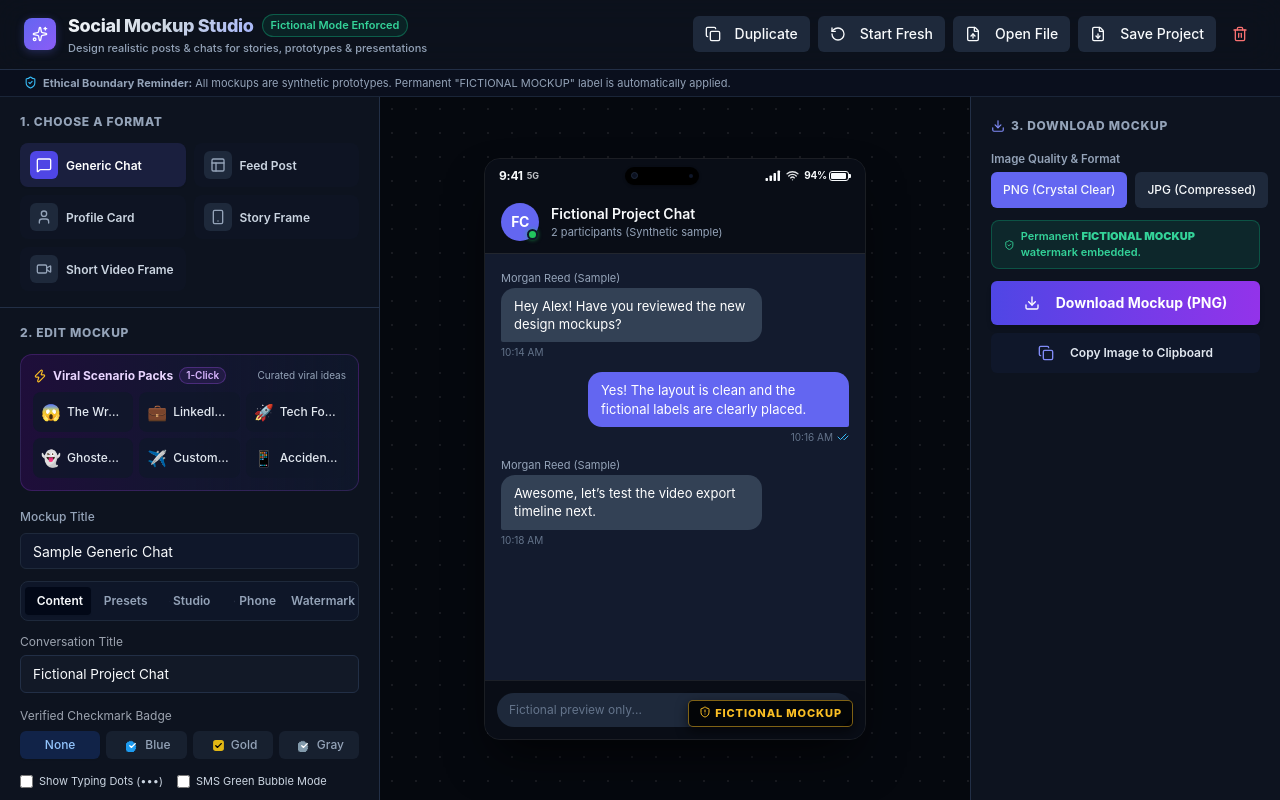
Test: Social Mockup Studio App › opens styled alert dialog when Start Fresh is clicked
The width and height of the screenshot is (1280, 800).
Click the button titled "Reset to Template Defaults" at (881,34), box [818,16,945,52]
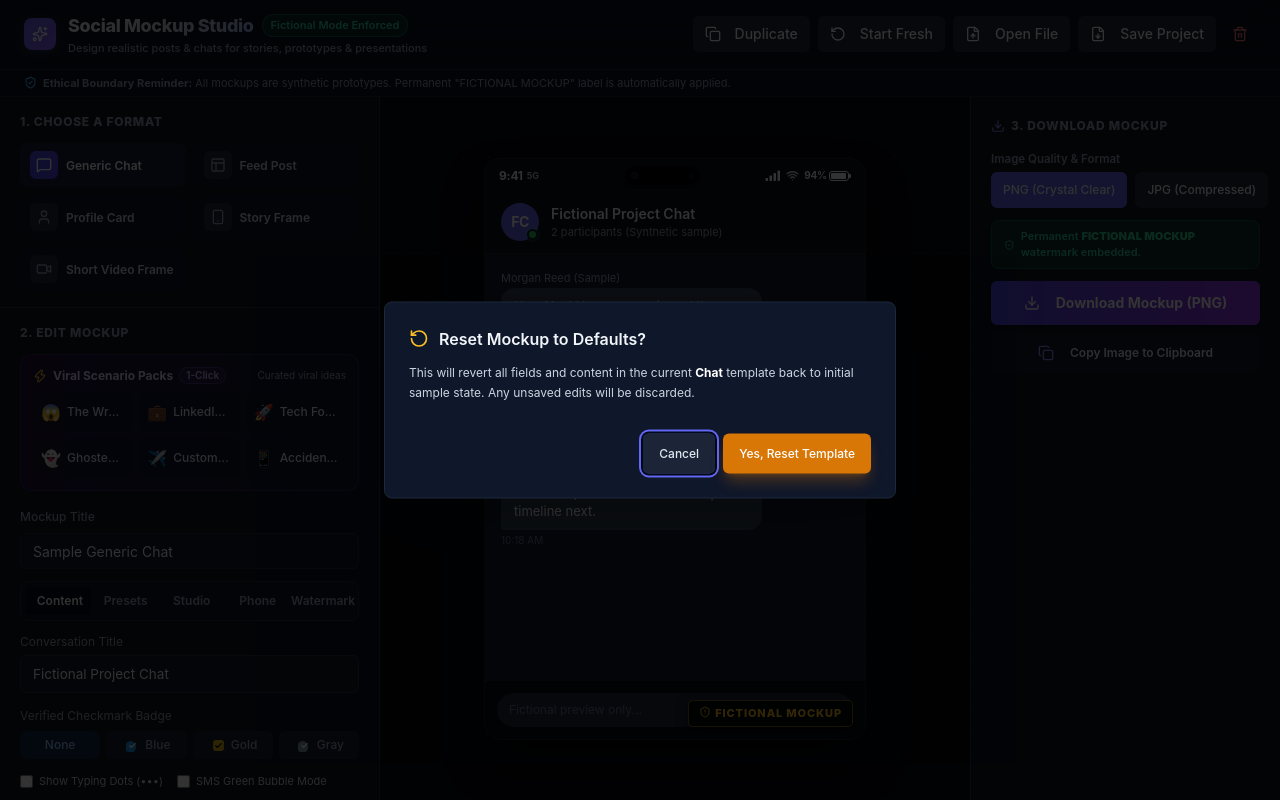
Expected: the heading "Reset Mockup to Defaults?" is shown, [439,326,646,350]
Expected: the button "Yes, Reset Template" is shown, [723,434,871,474]
Expected: the button "Cancel" is shown, [643,434,715,474]
